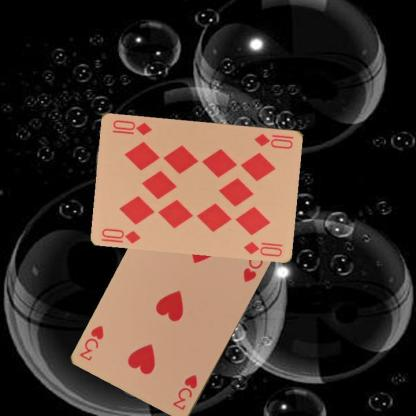10d: (252, 131, 295, 150), (99, 226, 142, 244)
3h: (170, 372, 199, 412)
